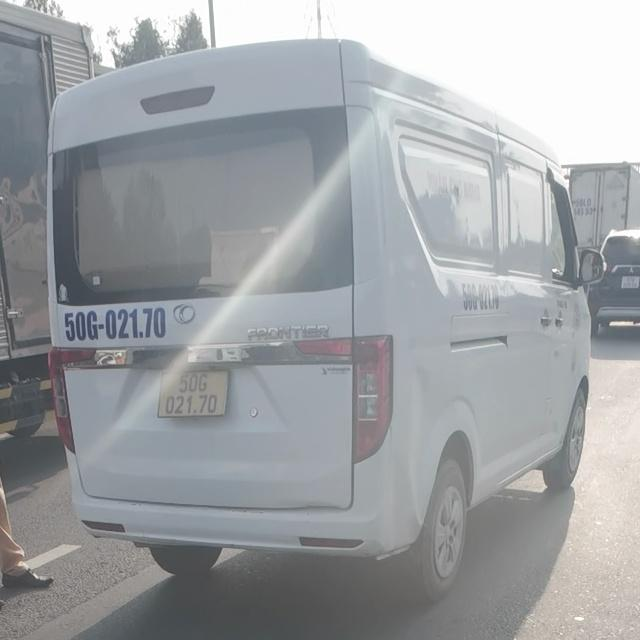license-plate: (157, 367, 230, 417)
